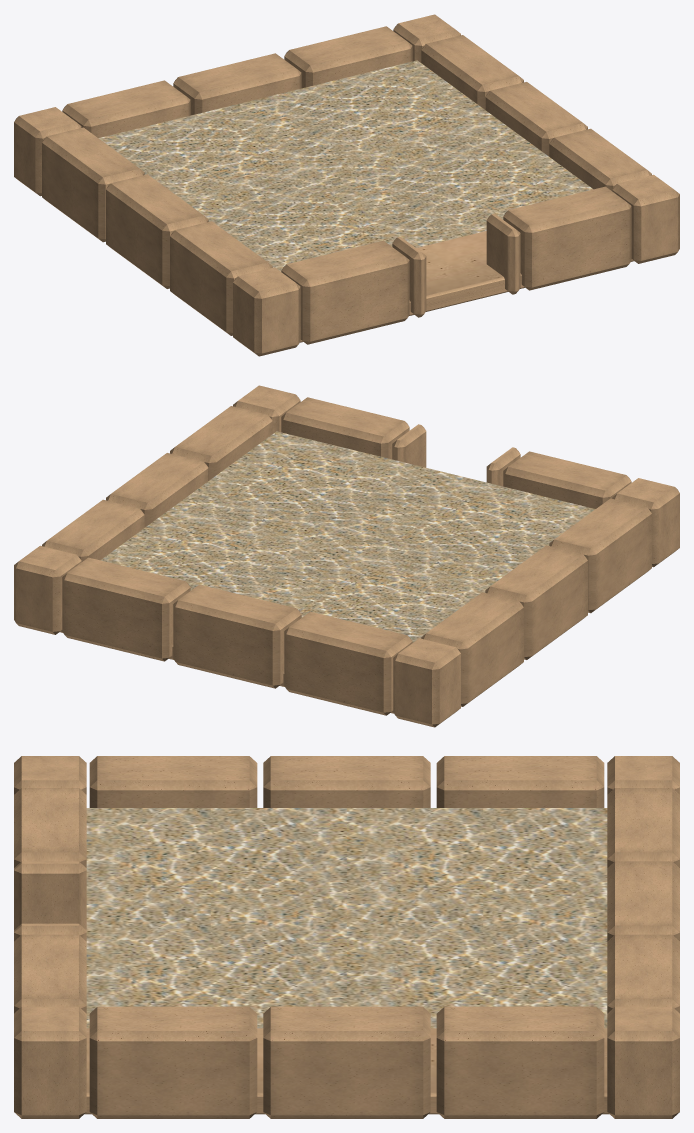
Rendered from water_basin.glb.
3 renders of one model, top to bottom at view 1: azimuth 30°, elevation 25°; view 2: azimuth 150°, elevation 25°; view 3: azimuth 270°, elevation 25°, orthographic. The views are drawn at different scales.
Parts seen in each view (by area): view 1: WaterBasin, BasinWater; view 2: WaterBasin, BasinWater; view 3: WaterBasin, BasinWater.
Part boxes in pixels (x1,y1,x2,y2): WaterBasin: (14,14,679,356); BasinWater: (98,60,593,271); WaterBasin: (14,385,679,727); BasinWater: (100,431,595,642); WaterBasin: (14,756,679,1118); BasinWater: (86,808,607,1028).
Bounding box in the file's own units: 2.2 × 0.32 × 2.2.
Materials: 2 (2 with a texture image).
